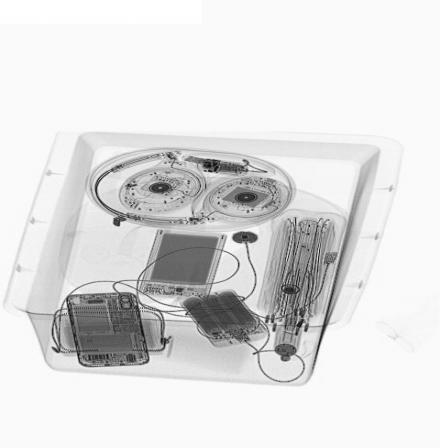Powerbank: (137, 229, 233, 297), (180, 289, 271, 347)
